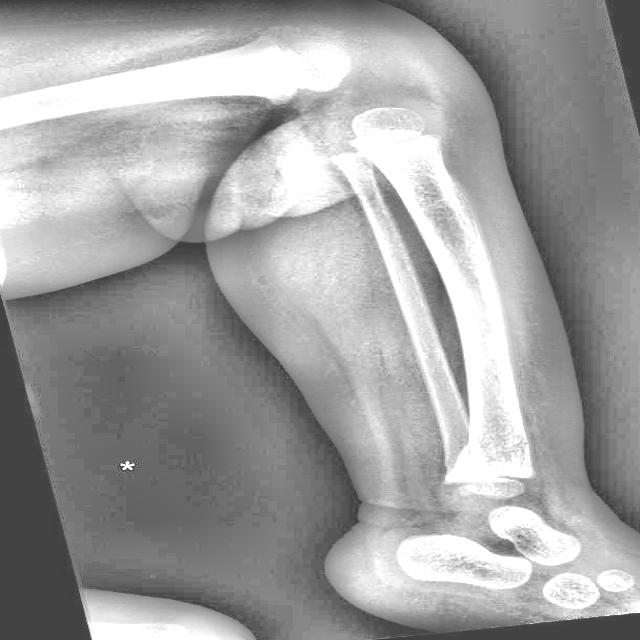line: (463, 443, 483, 460)
